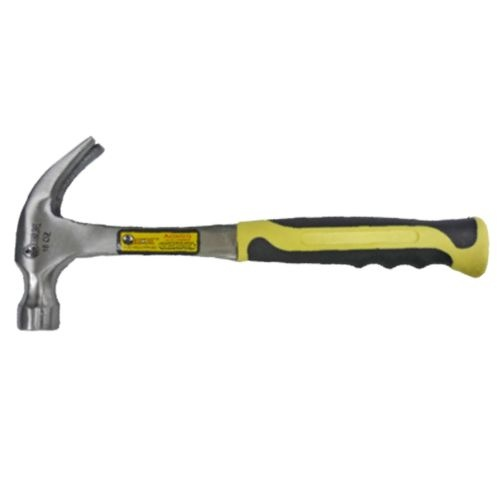hammer: (13, 134, 493, 335)
